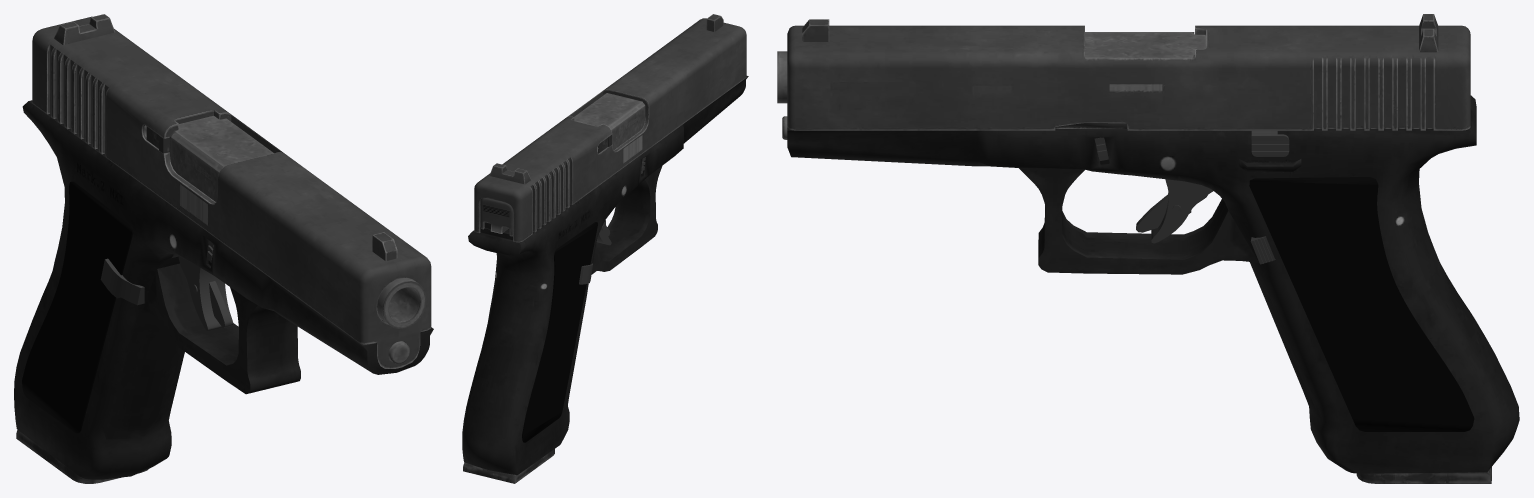
File: h3_chrome.glb
3 views of the same model, side by side, from view 1: azimuth 30°, elevation 25°; view 2: azimuth 150°, elevation 25°; view 3: azimuth 270°, elevation 25° (orthographic). The views are drawn at different scales.
Parts seen in each view (by area): view 1: body; view 2: body; view 3: body.
Boxes of the visible parts, x1=… form: body: x1=14, y1=14, x2=433, y2=483; body: x1=462, y1=14, x2=748, y2=483; body: x1=777, y1=14, x2=1519, y2=483.
Bounding box in the file's own units: 0.0302 × 0.1427 × 0.217.
2 materials, 2 textured.
